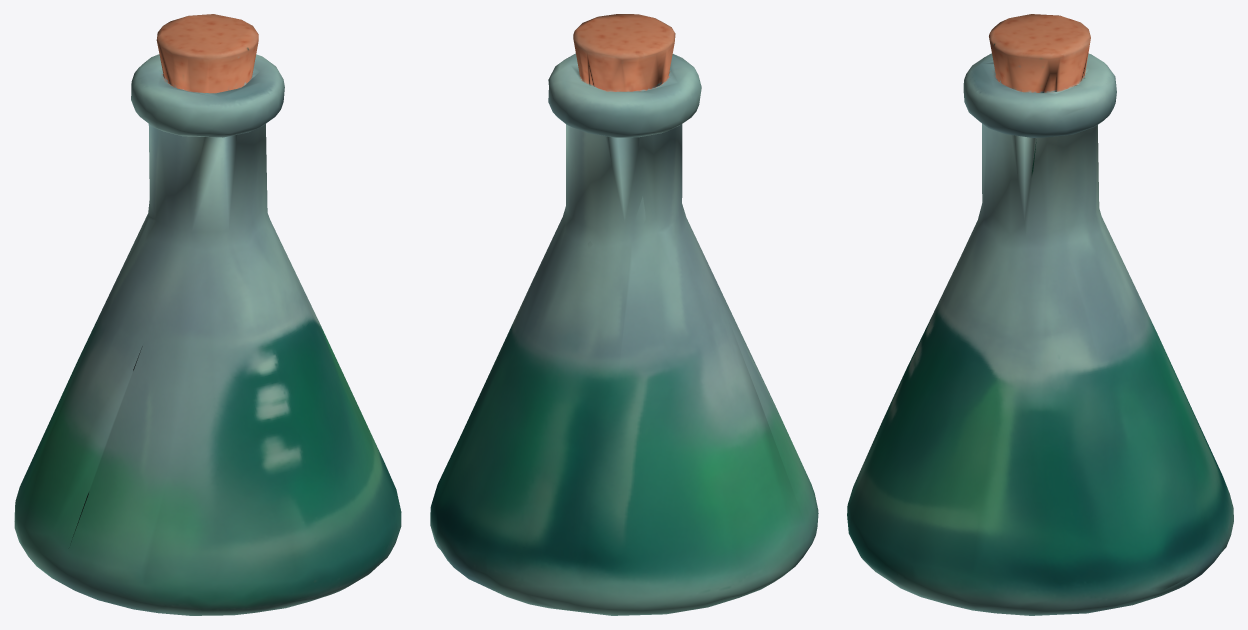
File: howkey-flask-model-r01-tex2048.glb
3 views of the same model, side by side, from view 1: azimuth 30°, elevation 25°; view 2: azimuth 150°, elevation 25°; view 3: azimuth 270°, elevation 25° (orthographic).
Parts seen in each view (by area): view 1: HowkeyFlask; view 2: HowkeyFlask; view 3: HowkeyFlask.
Part boxes in pixels (left/top/right/bottom): HowkeyFlask: left=14, top=14, right=401, bottom=615; HowkeyFlask: left=430, top=14, right=818, bottom=615; HowkeyFlask: left=847, top=14, right=1233, bottom=615.
Size of the model in its own units: 0.1012 by 0.15 by 0.1012.
Materials: 1 (1 with a texture image).
